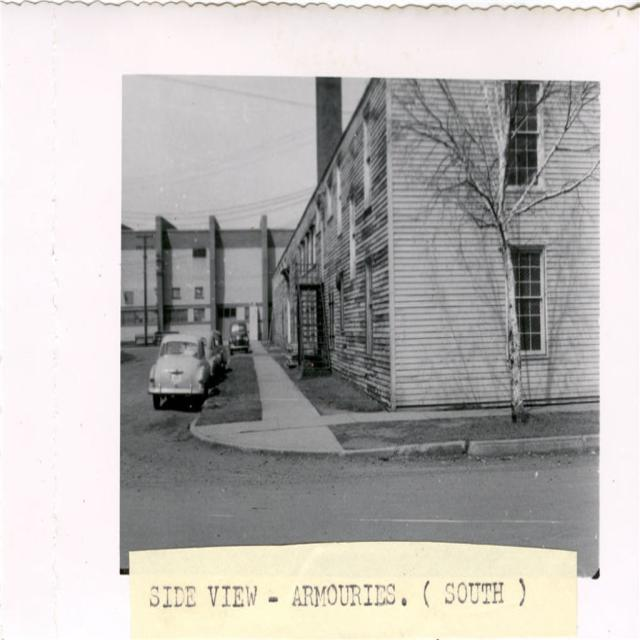car: (146, 330, 210, 416), (227, 316, 247, 355)
